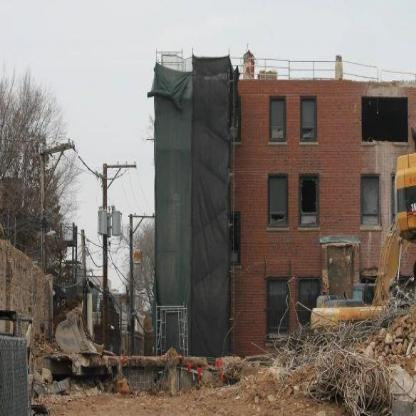rebar: (280, 281, 413, 415)
